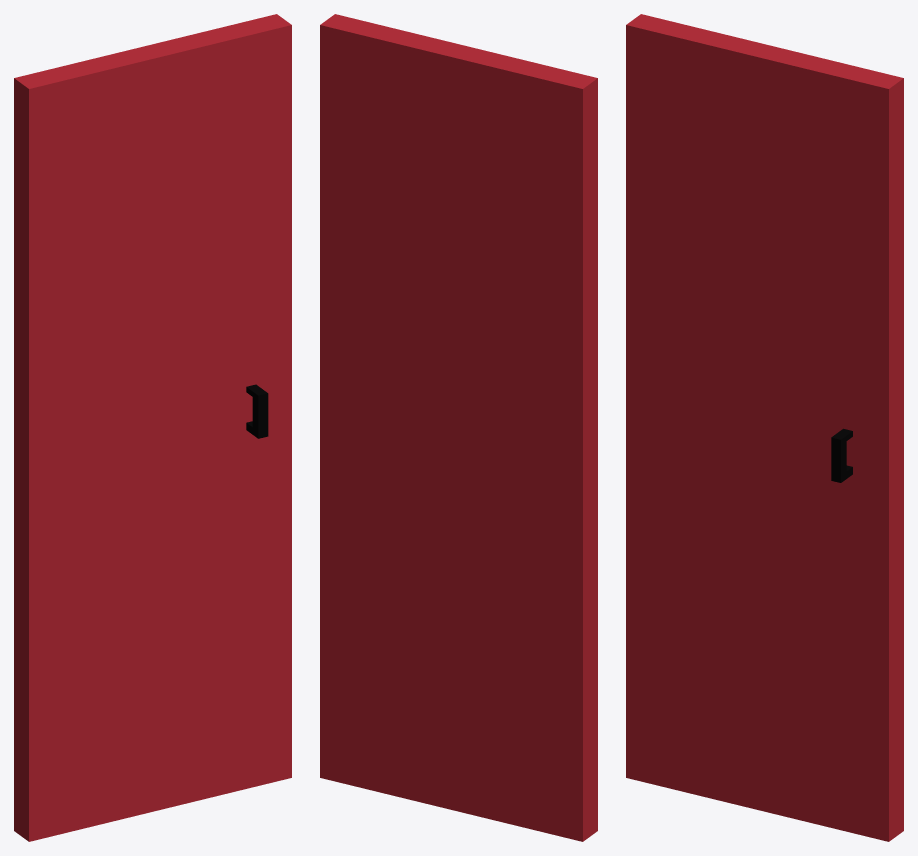
Rendered from DoorE1.fbx.
The picture shows the model from 3 angles, left to right: view 1: azimuth 30°, elevation 25°; view 2: azimuth 150°, elevation 25°; view 3: azimuth 330°, elevation 25°; orthographic projection.
Parts seen in each view (by area): view 1: DoorE1; view 2: DoorE1; view 3: DoorE1.
Boxes of the visible parts, x1,y1,x2,y2 form: DoorE1: (14,14,291,841); DoorE1: (320,14,597,841); DoorE1: (626,14,903,841).
Size of the model in its own units: 81.86 by 224 by 14.61.
